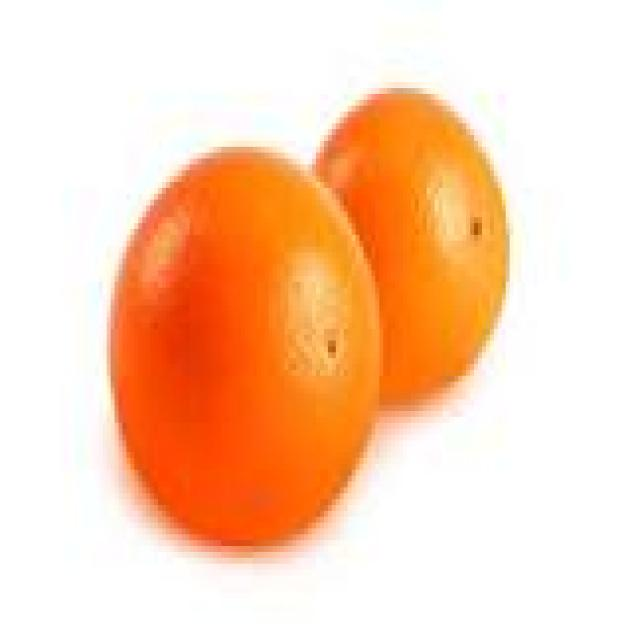orange: (111, 149, 379, 541), (316, 91, 508, 398)
